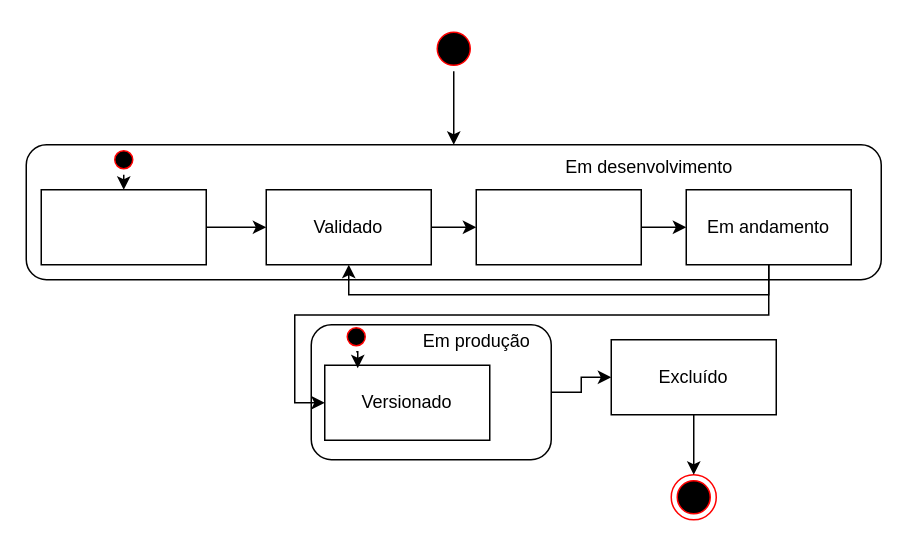
Some shapes in this 908 by 546 pixel diagram are drawn without their labels. The shapes that lost their labels are listed below. From the top down, each one's box as (x1, y1, x2, y2) in pixels, then its label:
(40, 188, 206, 265): Criado
(475, 188, 641, 265): Atribuído
